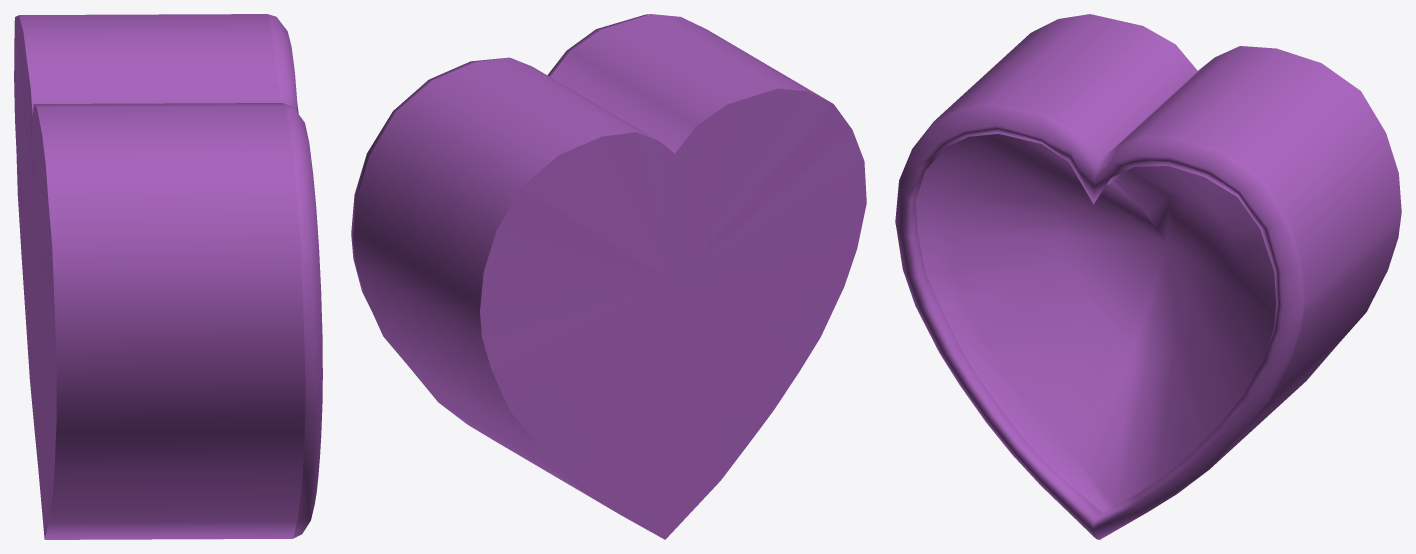
File: BR5_8shapes_heart_Classic_Metal.001 3.glb
3 renders of one model, left to right at view 1: azimuth 30°, elevation 25°; view 2: azimuth 150°, elevation 25°; view 3: azimuth 270°, elevation 25°, orthographic. The views are drawn at different scales.
Parts seen in each view (by area): view 1: BR5_8shapes_heart_Classic_Metal.001; view 2: BR5_8shapes_heart_Classic_Metal.001; view 3: BR5_8shapes_heart_Classic_Metal.001.
Part boxes in pixels (x1=…): BR5_8shapes_heart_Classic_Metal.001: x1=14, y1=14, x2=322, y2=539; BR5_8shapes_heart_Classic_Metal.001: x1=351, y1=14, x2=866, y2=539; BR5_8shapes_heart_Classic_Metal.001: x1=895, y1=14, x2=1401, y2=539.
Bounding box in the file's own units: 0.4455 × 0.5136 × 0.5633.
